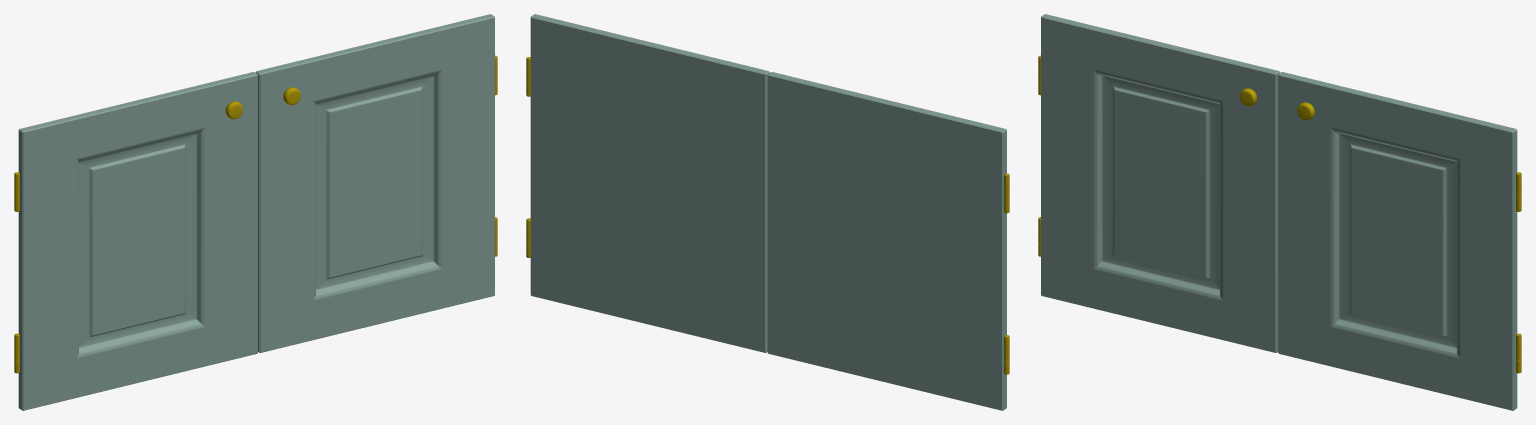
The model's file is Sinkcab_feb23.fbx.
3 views of the same model, side by side, from view 1: azimuth 30°, elevation 25°; view 2: azimuth 150°, elevation 25°; view 3: azimuth 330°, elevation 25° (orthographic).
Parts seen in each view (by area): view 1: cab7, cab8; view 2: cab7, cab8; view 3: cab8, cab7.
Boxes of the visible parts, left/top/right/bottom form: cab7: left=14, top=72, right=257, bottom=410; cab8: left=255, top=14, right=497, bottom=352; cab7: left=767, top=72, right=1009, bottom=410; cab8: left=526, top=14, right=769, bottom=352; cab8: left=1278, top=72, right=1521, bottom=410; cab7: left=1038, top=14, right=1280, bottom=352.
Bounding box in the file's own units: 0.9225 × 0.5106 × 0.0285.
